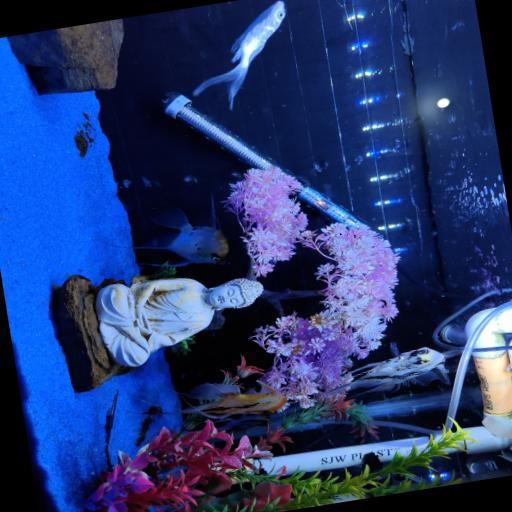Fish: (193, 1, 285, 109), (134, 198, 228, 267), (332, 343, 449, 392), (142, 381, 285, 419), (482, 416, 511, 439)
